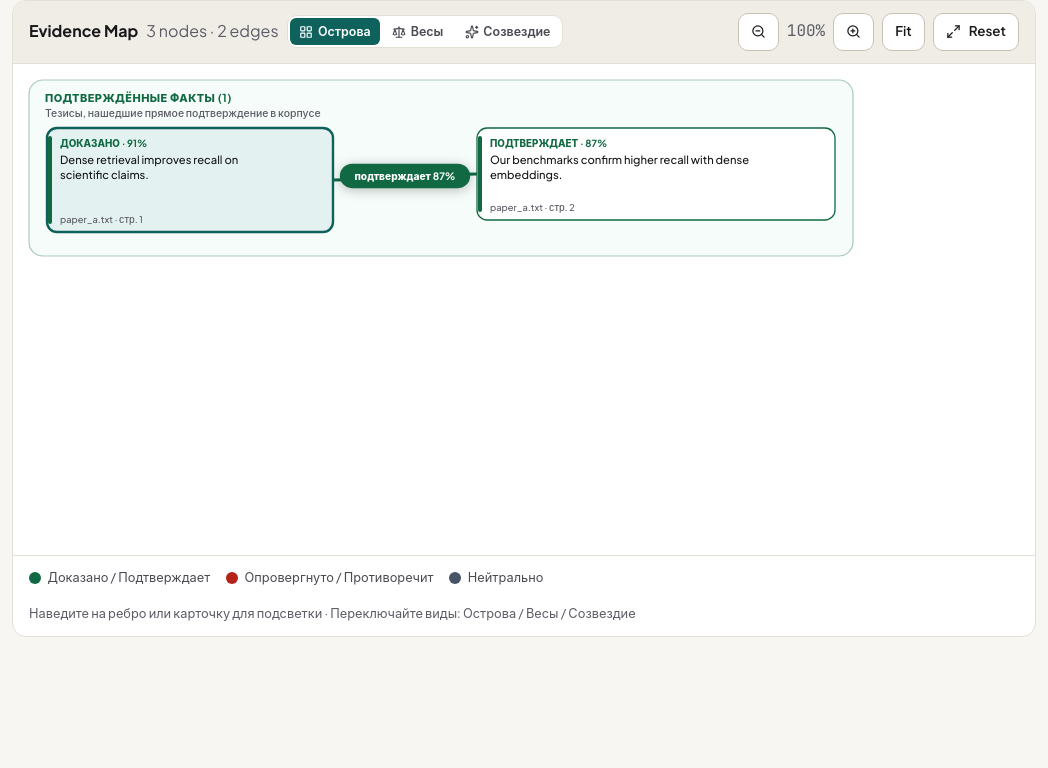
Test: EvidenceMap › supports zoom controls and selects claim nodes on click
Later steps or results of the test are not shown.
Expected: the text "100%" is shown, x1=787 y1=19 x2=825 y2=44
Click the button named "Zoom in evidence map": (854, 32) x1=833 y1=13 x2=874 y2=51
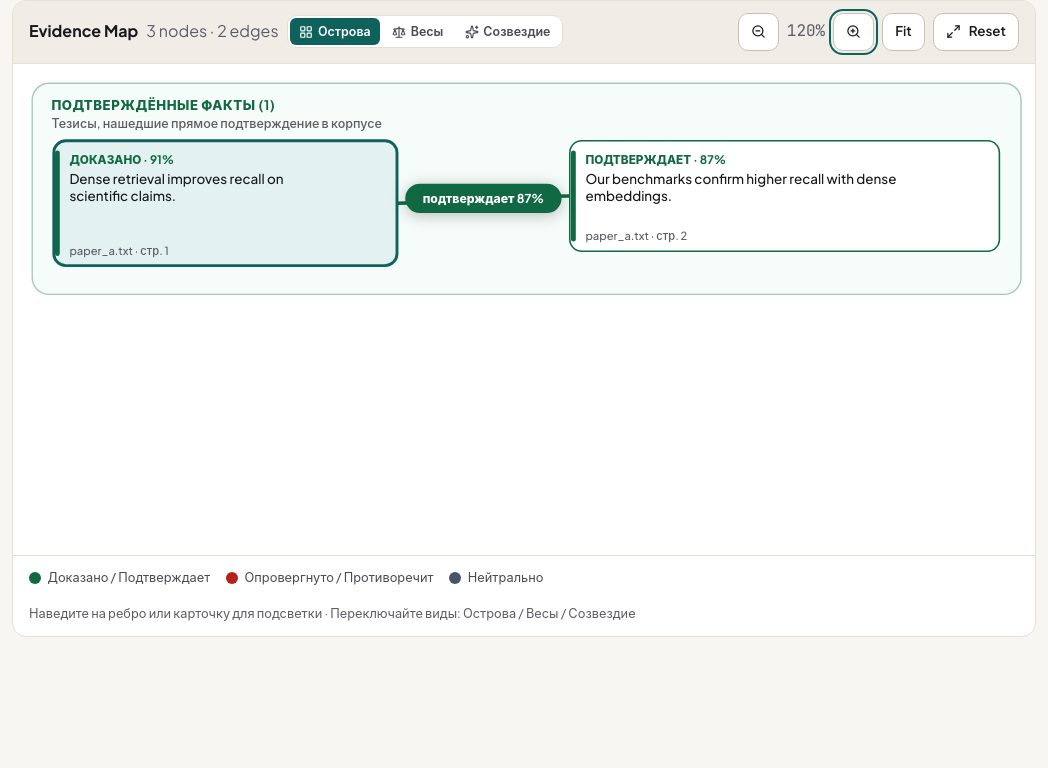
Expected: the text "120%" is shown, x1=787 y1=19 x2=825 y2=44
Click the button with aria-label "Reset evidence map zoom and pan": (976, 32) x1=933 y1=13 x2=1019 y2=51
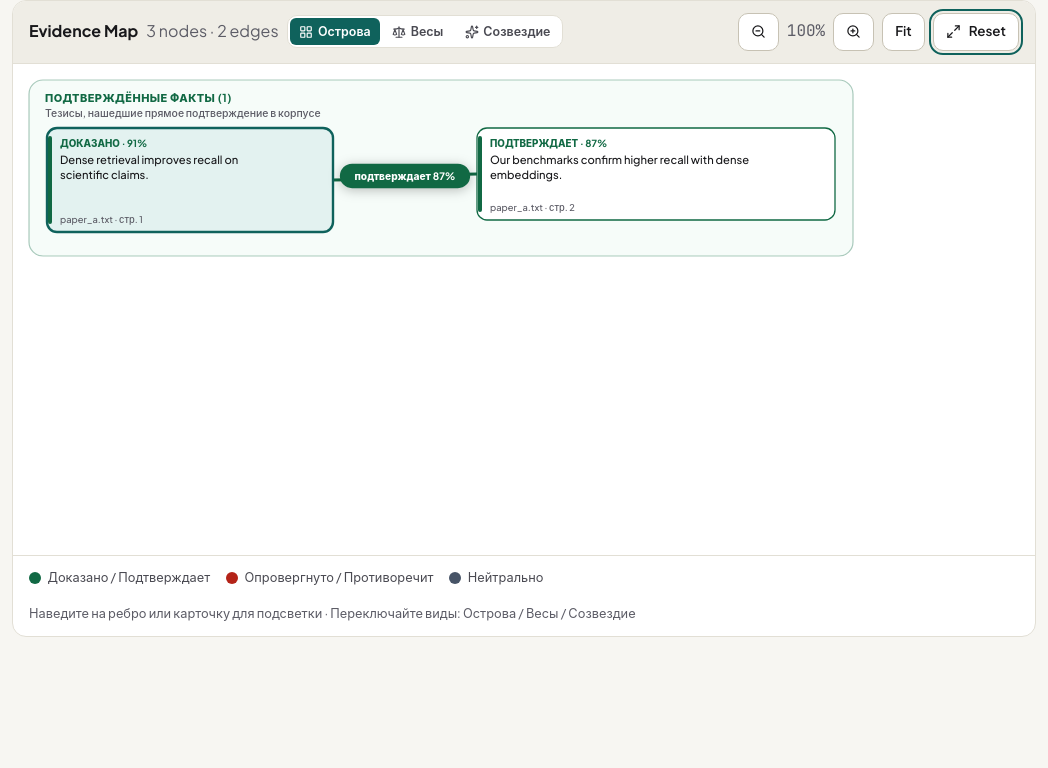
Expected: the text "100%" is shown, x1=787 y1=19 x2=825 y2=44
